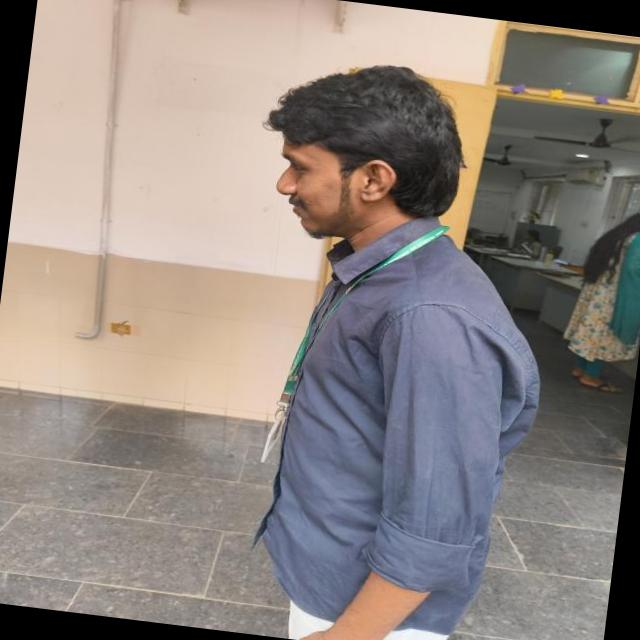id_card: (255, 212, 400, 477)
